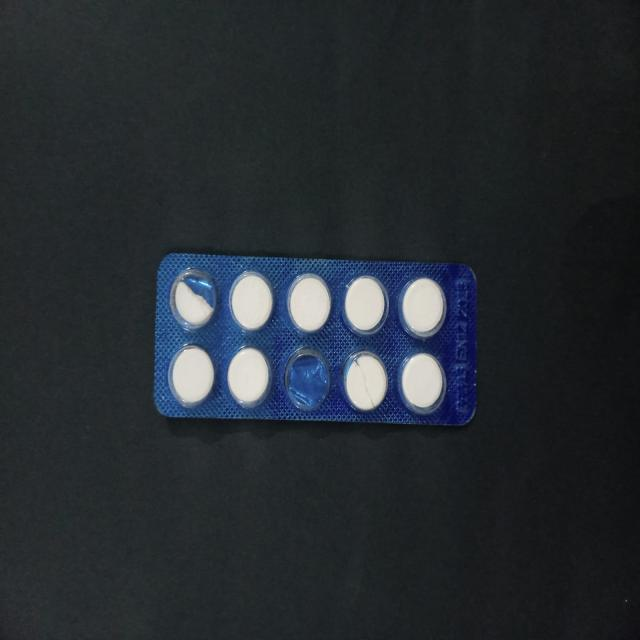defect: (280, 341, 334, 414), (167, 262, 221, 334), (339, 344, 390, 416)
